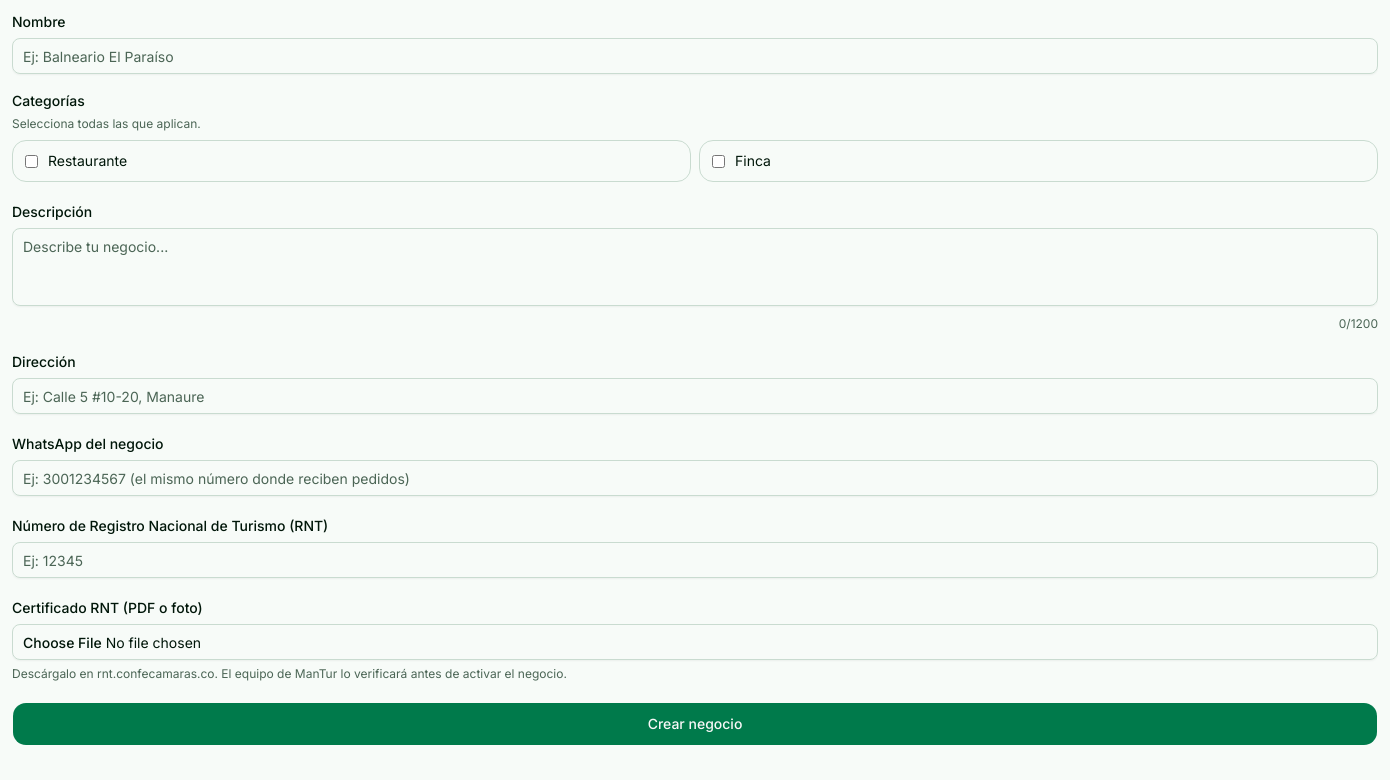
Test case: CreateBusinessForm — informational category › keeps requiring RNT and shows no notice when a bookable category is also checked
The width and height of the screenshot is (1390, 780).
Click the checkbox labelled "Restaurante" at coordinates (32, 161), box [25,154,38,168]
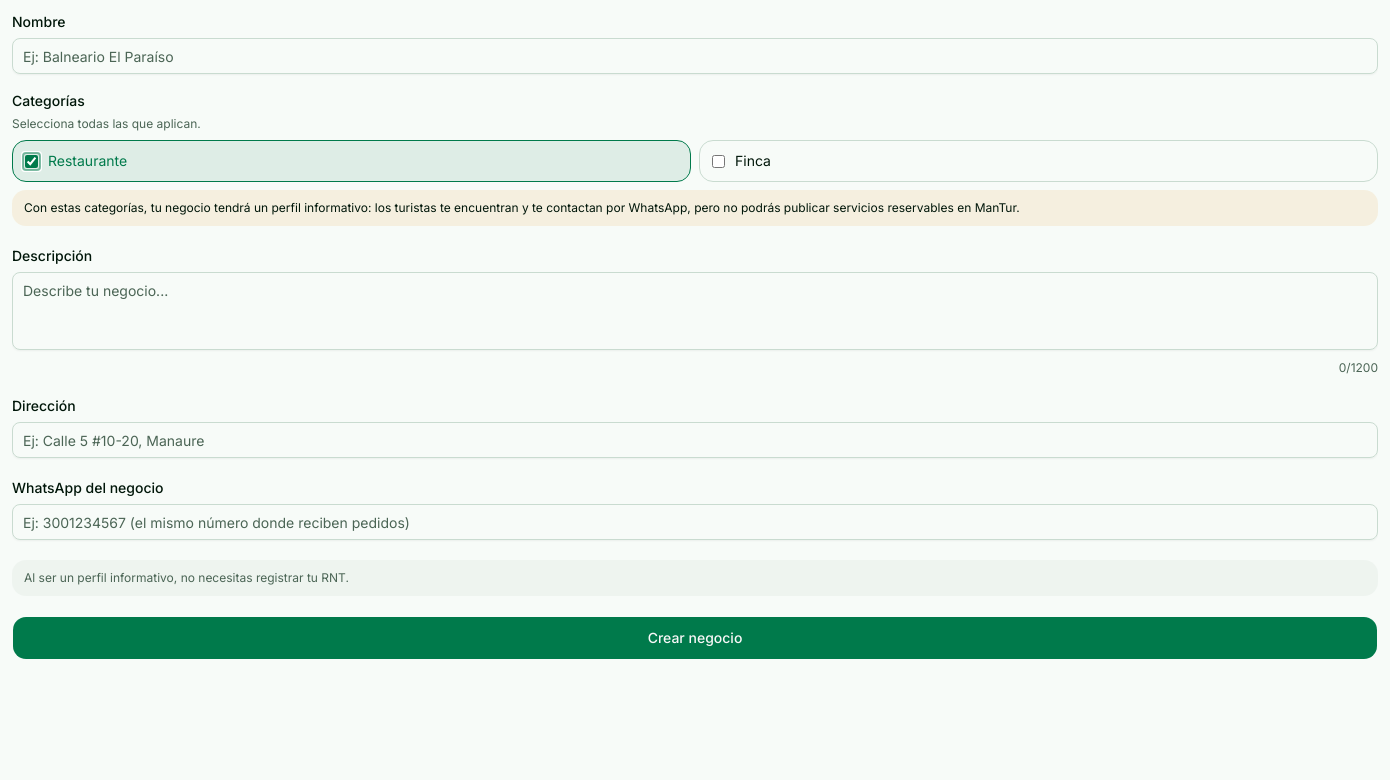
Click the checkbox labelled "Finca" at coordinates (718, 161), box [712,154,725,168]
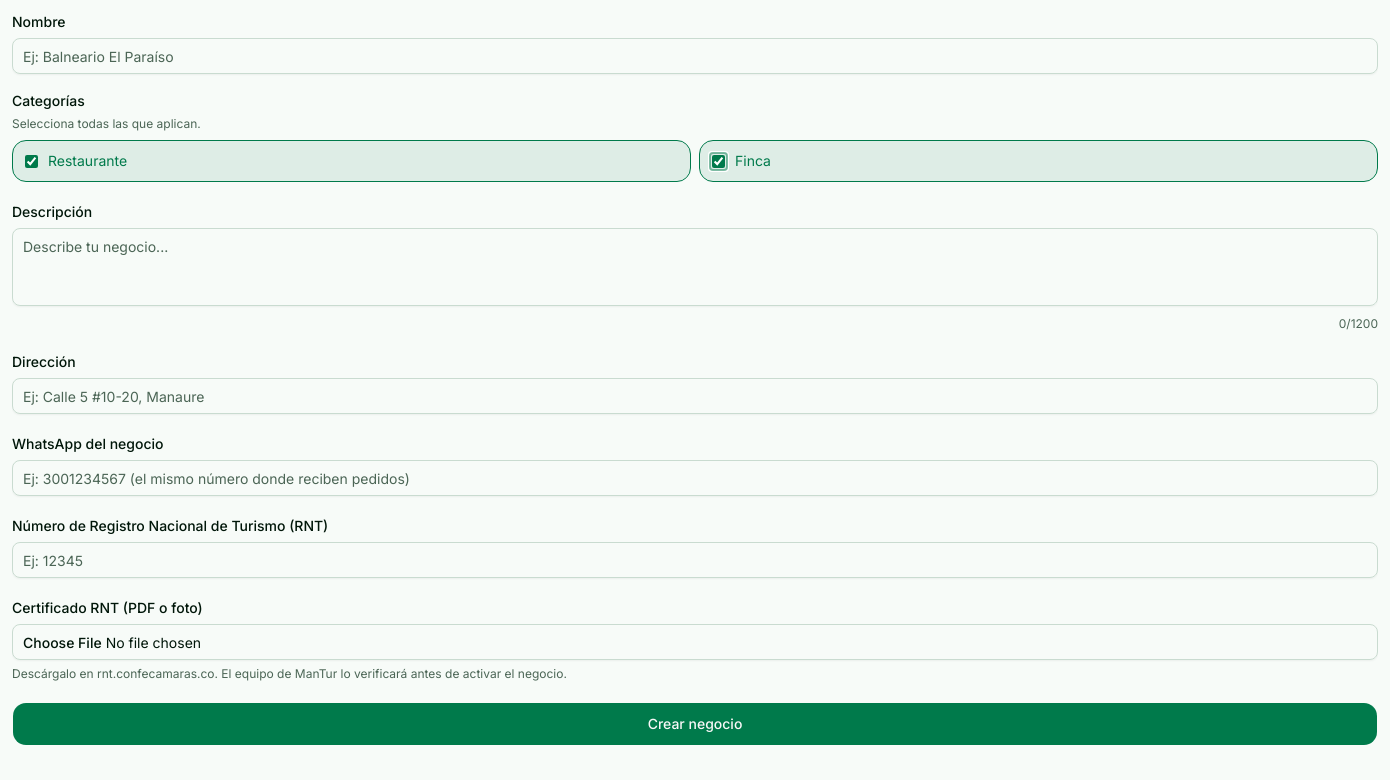
Check: the text "tendrá un perfil informativo" is gone
Check: the field labelled "Número de Registro Nacional de Turismo (RNT)" is shown, box [12,542,1378,578]
